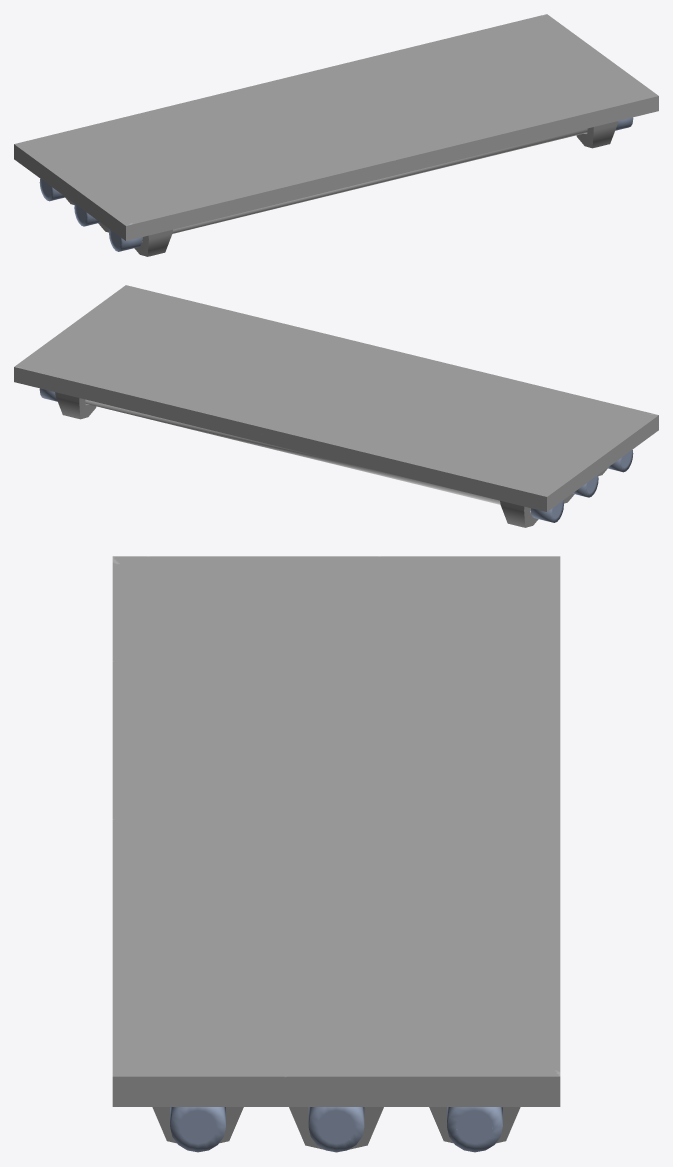
File: lampada retangular.fbx
3 renders of one model, top to bottom at view 1: azimuth 30°, elevation 25°; view 2: azimuth 150°, elevation 25°; view 3: azimuth 270°, elevation 25°, orthographic. The views are drawn at different scales.
Visible parts, largest first — view 1: LedCeilingLampSupport, LedCeilingLamp; view 2: LedCeilingLampSupport, LedCeilingLamp; view 3: LedCeilingLampSupport, LedCeilingLamp.
Part boxes in pixels (x1,y1,x2,y2): LedCeilingLampSupport: (14, 14, 658, 256); LedCeilingLamp: (39, 117, 633, 251); LedCeilingLampSupport: (14, 285, 658, 527); LedCeilingLamp: (39, 388, 633, 522); LedCeilingLampSupport: (112, 556, 560, 1149); LedCeilingLamp: (170, 1107, 502, 1152).
Size of the model in its own units: 72.72 by 19.77 by 200.
